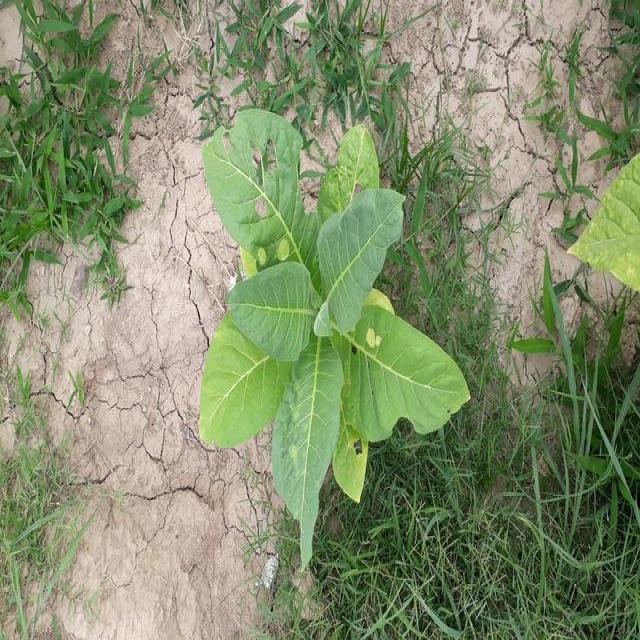crop: (195, 111, 472, 545), (571, 143, 640, 314)
